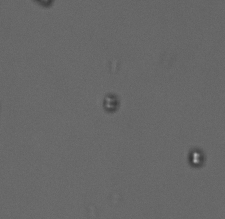Dead Cell: (102, 92, 118, 112)
Living Cell: (187, 148, 207, 166)
